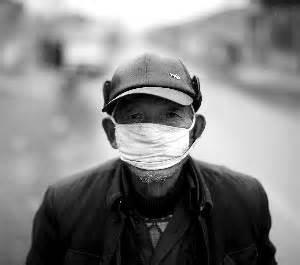OK: (113, 101, 194, 182)
